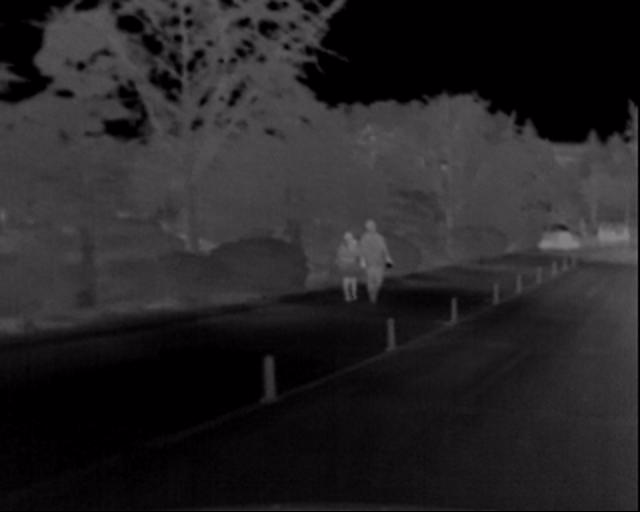person: (354, 221, 390, 303), (335, 229, 357, 299)
